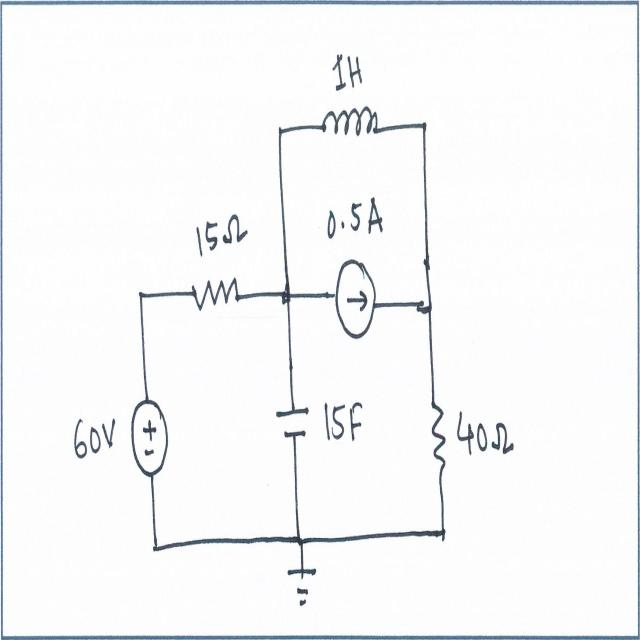capacitor: (274, 404, 314, 441)
current_source: (333, 250, 377, 341)
ground: (280, 560, 320, 612)
inductor: (320, 98, 380, 146)
resistor: (192, 274, 239, 316), (430, 400, 450, 480)
voltage_source: (128, 394, 172, 482)
